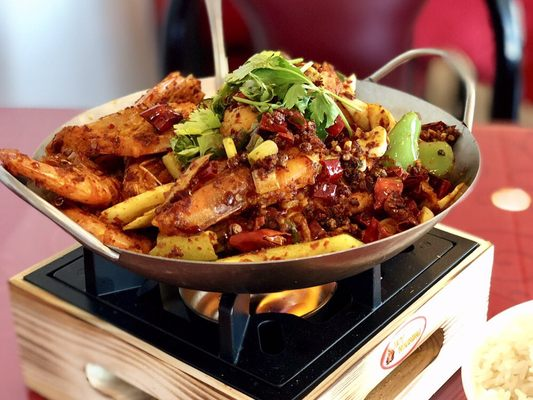soup: (1, 71, 209, 246)
sushi: (461, 299, 533, 400)
